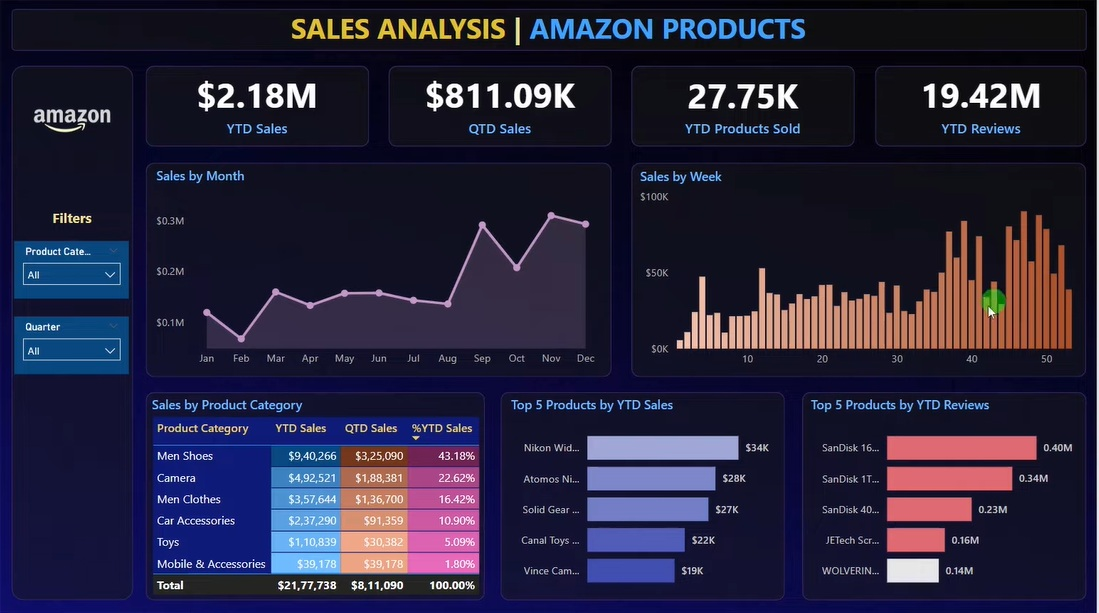

The page's visual inventory and layout, read from the dashboard file:
{"tool":"powerbi","page":{"name":"Page 1","canvas":[1280,720],"ordinal":0},"visuals":[{"type":"shape","box":[5,0,1268.2,73.9],"z":0},{"type":"textbox","box":[332.6,6.7,614.8,60.5],"z":1000},{"type":"shape","box":[0,67.6,122,634.8],"z":2000},{"type":"shape","box":[141.1,80.6,260,95],"z":3000},{"type":"card","fields":{"Values":["Amazon_Data.YTD Sales"]},"box":[141.1,80.6,260.4,95.7],"z":4000},{"type":"shape","box":[420.3,80.6,260.4,95.7],"z":5000},{"type":"shape","box":[699.8,80.6,260.4,95.7],"z":6000},{"type":"shape","box":[979.3,80.6,260.4,95.7],"z":7000},{"type":"card","fields":{"Values":["Amazon_Data.QTD Sales"]},"box":[419.9,80.6,260.4,95.7],"z":8000},{"type":"card","fields":{"Values":["Amazon_Data.YTD Product Sold"]},"box":[700.5,80.6,260.4,95.7],"z":9000},{"type":"card","fields":{"Values":["Amazon_Data.YTD Reviews"]},"box":[979.3,80.6,260.4,95.7],"z":10000},{"type":"shape","box":[141.1,202.8,542.2,268.9],"z":11000},{"type":"areaChart","title":"Sales By Month","fields":{"Category":["Date Table.Date.Variation.Date Hierarchy.Month"],"Y":["Sum(Amazon_Data.Price(Dollar))"]},"box":[141.1,214.5,542.2,257.1],"z":12000,"group":"g1"},{"type":"shape","box":[706.8,202.8,542.2,268.9],"z":12000},{"type":"group","id":"g1","title":"Group 1","box":[141.1,214.5,1107.9,257.1],"z":13000},{"type":"columnChart","title":"Sales By Week","fields":{"Y":["Sum(Amazon_Data.Price(Dollar))"],"Category":["Date Table.Week Number"]},"box":[717.1,214.5,531.9,257.1],"z":14000,"group":"g1"},{"type":"shape","box":[151.3,476.1,414.4,232.2],"z":14000},{"type":"pivotTable","title":"Sales by Product Category","fields":{"Rows":["Amazon_Data.Product Category"],"Values":["Amazon_Data.YTD Sales1","Amazon_Data.YTD Sales","Amazon_Data.QTD Sales"]},"box":[183.7,471.7,434.9,243.9],"z":15000},{"type":"shape","box":[933.4,478.5,326.3,231.7],"z":16000},{"type":"shape","box":[576,476.1,340.9,232.2],"z":17000},{"type":"clusteredBarChart","title":"TOP 5 Products by YTD Sales","fields":{"Category":["Amazon_Data.Product Description"],"Y":["Amazon_Data.YTD Sales"]},"box":[576.6,476.8,356.8,231.7],"z":18000},{"type":"clusteredBarChart","title":"Top 5 Reviews by YTD Sales","fields":{"Category":["Amazon_Data.Product Description"],"Y":["Amazon_Data.YTD Reviews"]},"box":[933.4,478.5,346.6,231.7],"z":19000},{"type":"slicer","fields":{"Values":["Amazon_Data.Product Category"]},"box":[0,214.5,124.9,67.6],"z":20000},{"type":"slicer","fields":{"Values":["Date Table.QTR"]},"box":[0,320.3,124.9,79.3],"z":21000},{"type":"image","box":[0,36.7,122,177.8],"z":22000}]}

Visuals, with their boxes in screenshot pixels (x1, y1, x2, y2), scaled from the page's 1280x720 canvas onto the 1099x613 screenshot:
shape: left=4, top=0, right=1093, bottom=63
textbox: left=286, top=6, right=813, bottom=57
shape: left=0, top=58, right=105, bottom=598
shape: left=121, top=69, right=344, bottom=150
card - Amazon_Data.YTD Sales: left=121, top=69, right=345, bottom=150
shape: left=361, top=69, right=584, bottom=150
shape: left=601, top=69, right=824, bottom=150
shape: left=841, top=69, right=1064, bottom=150
card - Amazon_Data.QTD Sales: left=361, top=69, right=584, bottom=150
card - Amazon_Data.YTD Product Sold: left=601, top=69, right=825, bottom=150
card - Amazon_Data.YTD Reviews: left=841, top=69, right=1064, bottom=150
shape: left=121, top=173, right=587, bottom=402
"Sales By Month" areaChart: left=121, top=183, right=587, bottom=402
shape: left=607, top=173, right=1072, bottom=402
"Group 1" group: left=121, top=183, right=1072, bottom=402
"Sales By Week" columnChart: left=616, top=183, right=1072, bottom=402
shape: left=130, top=405, right=486, bottom=603
"Sales by Product Category" pivotTable: left=158, top=402, right=531, bottom=609
shape: left=801, top=407, right=1082, bottom=605
shape: left=495, top=405, right=787, bottom=603
"TOP 5 Products by YTD Sales" clusteredBarChart: left=495, top=406, right=801, bottom=603
"Top 5 Reviews by YTD Sales" clusteredBarChart: left=801, top=407, right=1098, bottom=605
slicer - Amazon_Data.Product Category: left=0, top=183, right=107, bottom=240
slicer - Date Table.QTR: left=0, top=273, right=107, bottom=340
image: left=0, top=31, right=105, bottom=183
